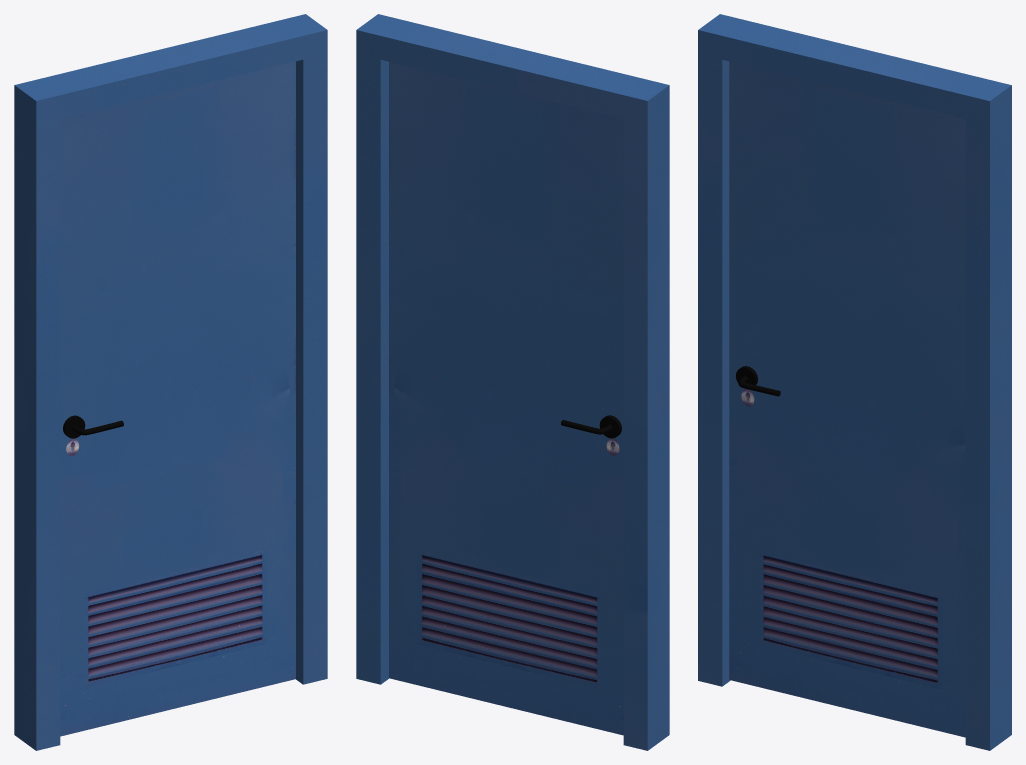
The model's file is Door 1.FBX.
The picture shows the model from 3 angles, left to right: view 1: azimuth 30°, elevation 25°; view 2: azimuth 150°, elevation 25°; view 3: azimuth 330°, elevation 25°; orthographic projection.
Visible parts, largest first — view 1: Door 1, door frame 1; view 2: Door 1, door frame 1; view 3: Door 1, door frame 1.
Part boxes in pixels (x1=…): Door 1: x1=60, y1=61, x2=295, y2=736; door frame 1: x1=14, y1=14, x2=327, y2=750; Door 1: x1=389, y1=62, x2=623, y2=735; door frame 1: x1=356, y1=14, x2=669, y2=750; Door 1: x1=729, y1=61, x2=965, y2=737; door frame 1: x1=698, y1=14, x2=1011, y2=750.
Bounding box in the file's own units: 97.8 × 208 × 17.04.
2 materials, 1 textured.
